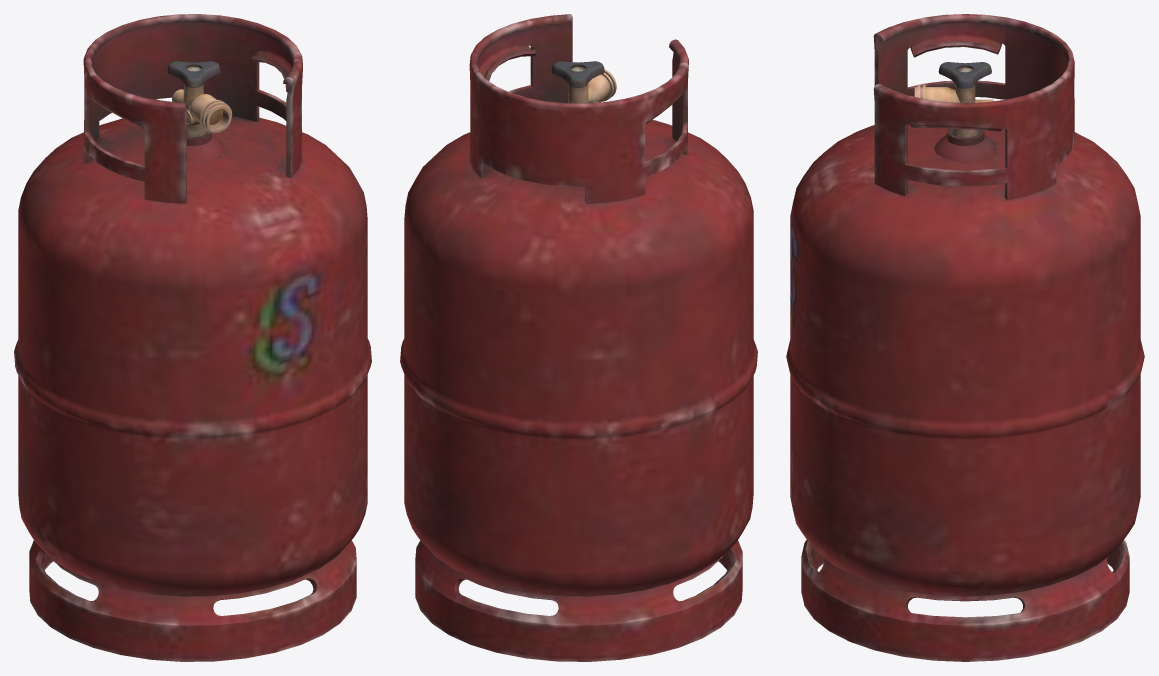
File: propane-tank.glb
The picture shows the model from 3 angles, left to right: view 1: azimuth 30°, elevation 25°; view 2: azimuth 150°, elevation 25°; view 3: azimuth 270°, elevation 25°; orthographic projection.
Parts seen in each view (by area): view 1: Circle; view 2: Circle; view 3: Circle.
Part boxes in pixels (box(x1,y1,x2,y2)): Circle: box(14, 14, 371, 661); Circle: box(400, 14, 757, 661); Circle: box(786, 14, 1144, 661).
Size of the model in its own units: 0.3374 by 0.5538 by 0.3374.
Materials: 1 (1 with a texture image).
